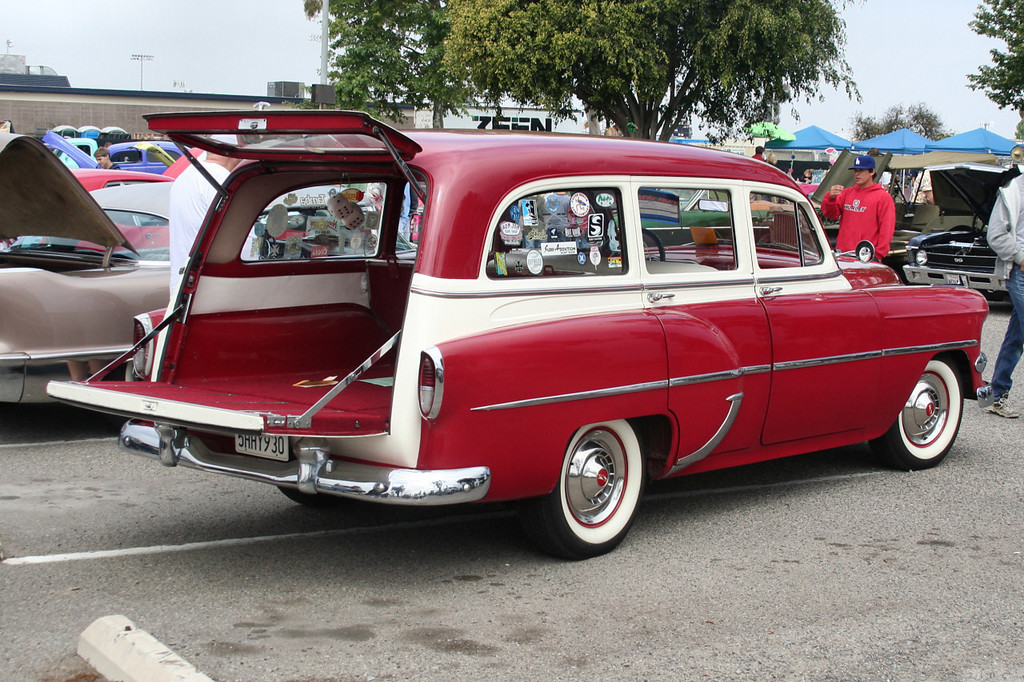Car: (0, 102, 1006, 563)
